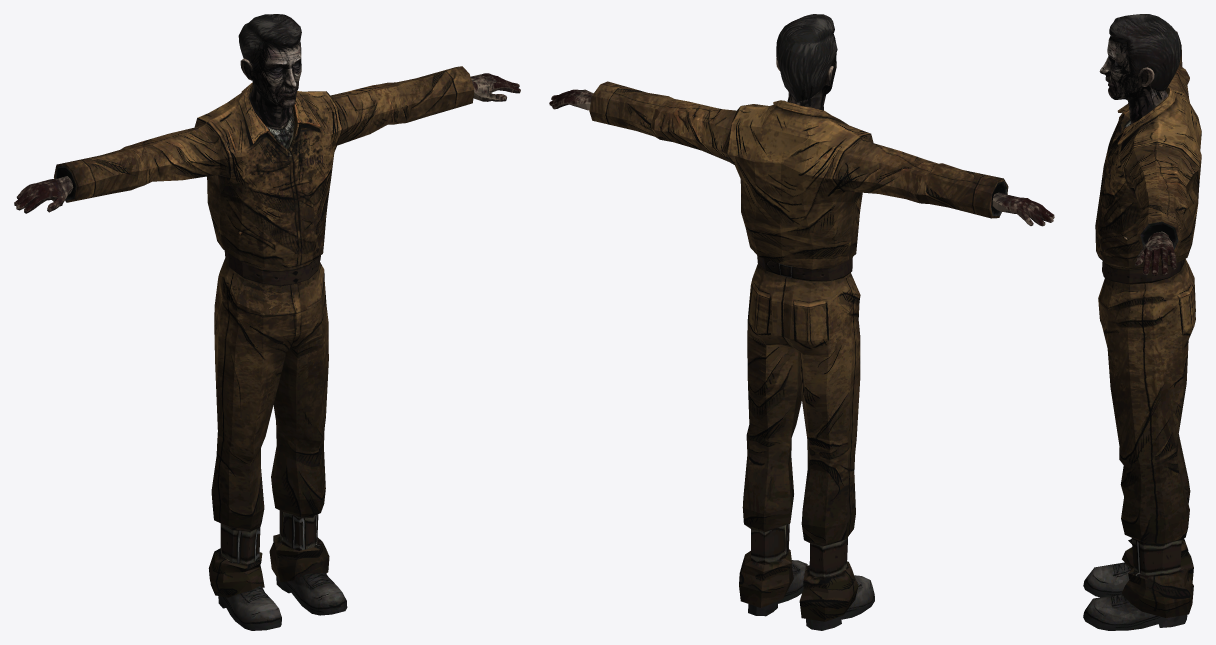
The model's file is justinzombie.obj.
3 views of the same model, side by side, from view 1: azimuth 30°, elevation 25°; view 2: azimuth 150°, elevation 25°; view 3: azimuth 270°, elevation 25° (orthographic).
Visible parts, largest first — view 1: justinzombie_body, justinzombie_face; view 2: justinzombie_body, justinzombie_face; view 3: justinzombie_body, justinzombie_face.
Boxes of the visible parts, x1,y1,x2,y2 form: justinzombie_body: (54,66,474,630); justinzombie_face: (14,14,520,213); justinzombie_body: (589,81,1008,630); justinzombie_face: (549,14,1054,226); justinzombie_body: (1083,31,1201,630); justinzombie_face: (1099,14,1181,275).
Bounding box in the file's own units: 3.18 × 3.54 × 0.6507.
Materials: 4 (4 with a texture image).
